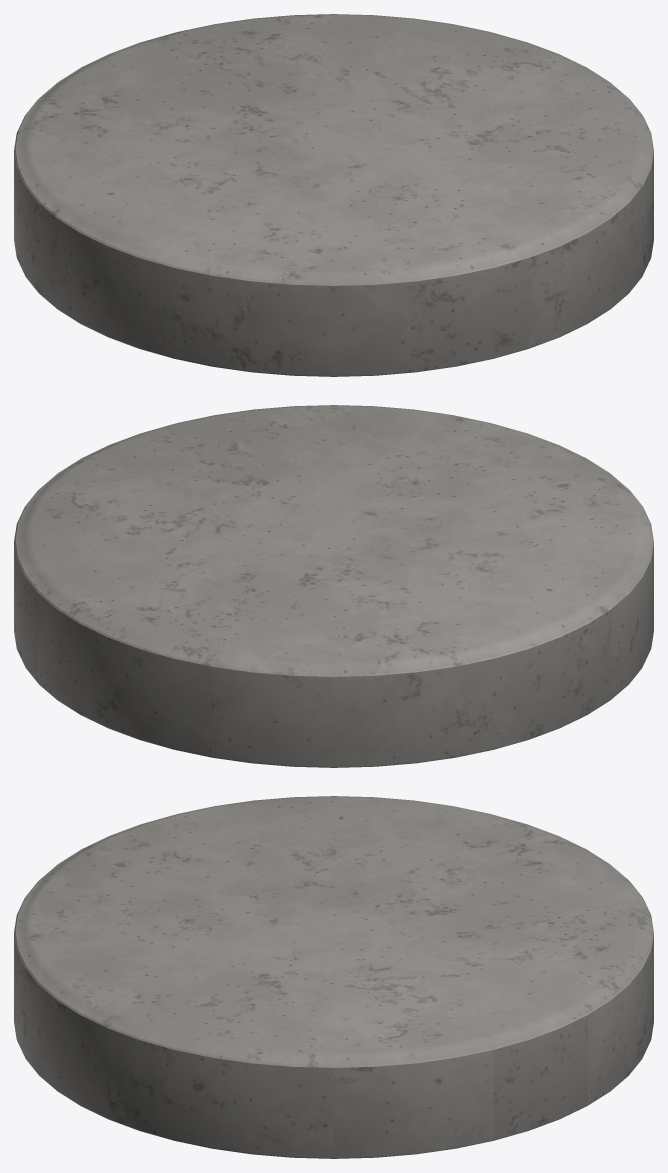
File: circle_stepping.glb
3 views of the same model, one above another, from view 1: azimuth 30°, elevation 25°; view 2: azimuth 150°, elevation 25°; view 3: azimuth 270°, elevation 25° (orthographic).
Parts seen in each view (by area): view 1: Circle Stepping Stone; view 2: Circle Stepping Stone; view 3: Circle Stepping Stone.
Boxes of the visible parts, left/top/right/bottom form: Circle Stepping Stone: left=14, top=14, right=653, bottom=376; Circle Stepping Stone: left=14, top=405, right=653, bottom=767; Circle Stepping Stone: left=14, top=796, right=653, bottom=1158.
Size of the model in its own units: 0.2953 by 0.0508 by 0.2953.
1 material, 1 textured.
